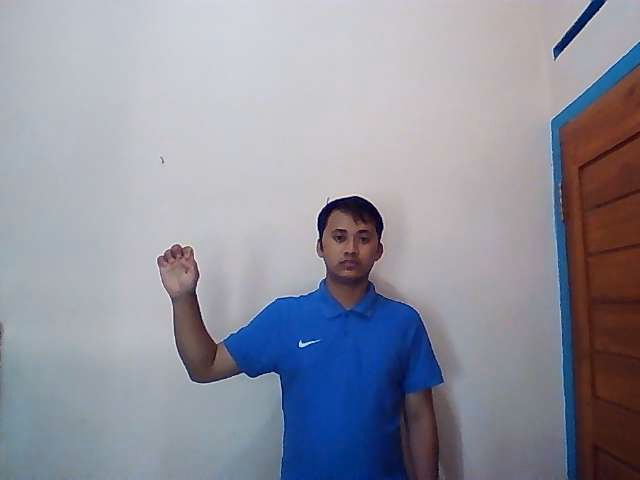E: (156, 243, 201, 296)
